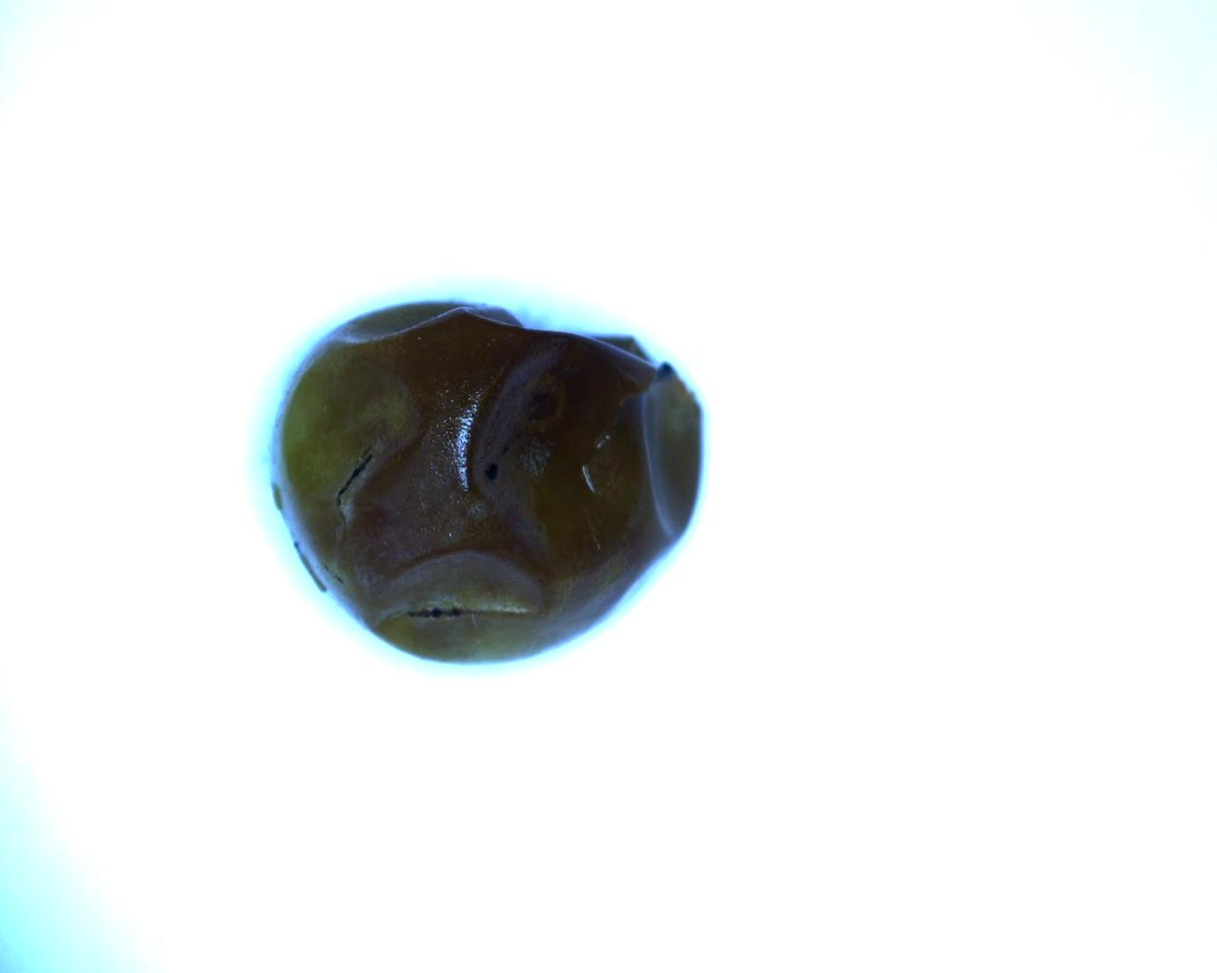Grape Rotten: (267, 297, 705, 665)
